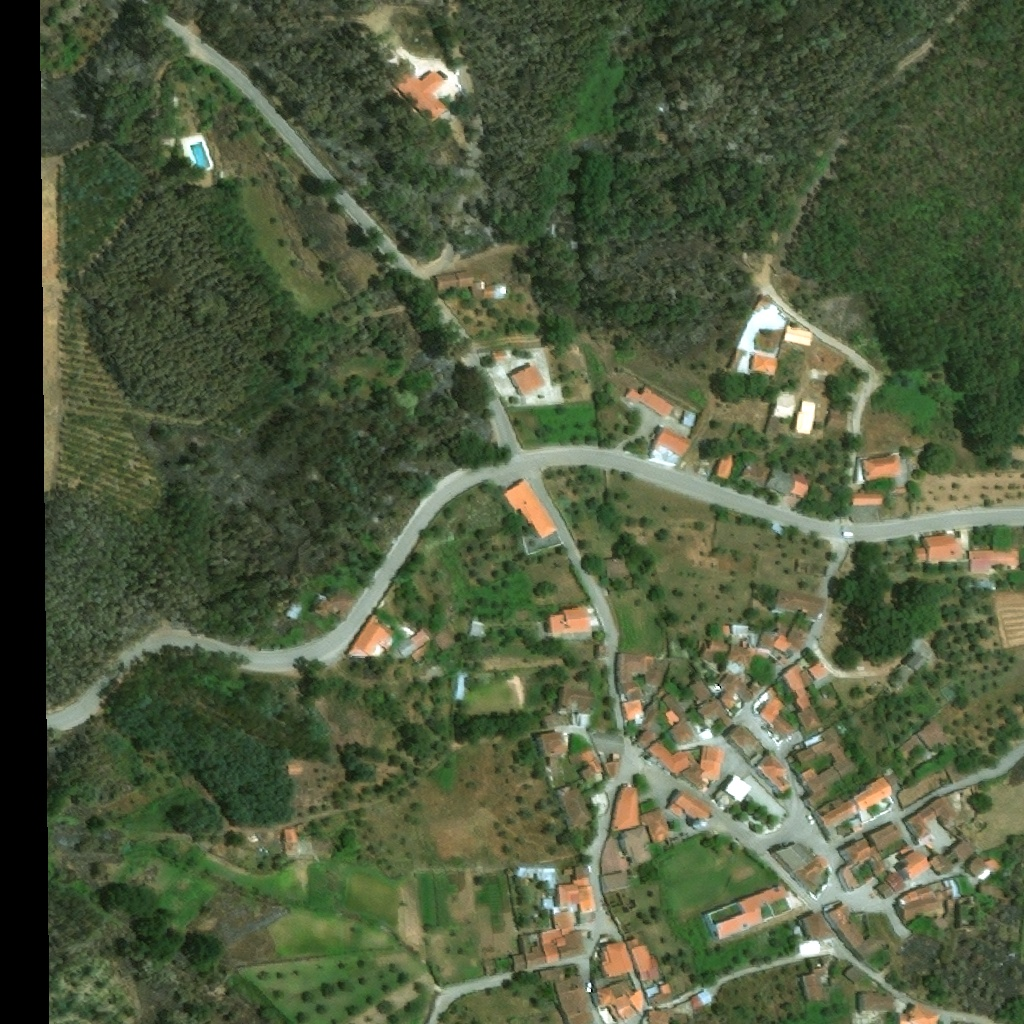0 no-damage: (794, 725, 861, 809), (705, 884, 794, 943), (510, 911, 587, 972), (727, 625, 811, 678), (820, 776, 893, 830), (648, 740, 725, 791), (386, 63, 449, 122), (824, 903, 886, 962), (838, 822, 904, 876), (502, 479, 559, 540), (741, 458, 815, 500), (539, 968, 595, 1023), (772, 842, 826, 896), (783, 664, 825, 733), (897, 720, 954, 766), (616, 653, 666, 701), (556, 867, 597, 924), (348, 614, 396, 659), (599, 978, 644, 1023), (760, 682, 795, 739), (661, 693, 697, 746), (649, 428, 694, 467), (912, 534, 965, 565), (666, 790, 712, 824), (315, 584, 357, 621), (897, 885, 940, 921), (931, 842, 976, 876), (625, 388, 674, 418), (777, 589, 827, 618), (626, 939, 661, 980), (969, 547, 1023, 573), (757, 754, 792, 794), (560, 786, 593, 828), (726, 724, 764, 760), (392, 629, 432, 661), (902, 806, 937, 842), (511, 364, 547, 398), (600, 941, 633, 978), (611, 787, 639, 830), (766, 395, 796, 435), (620, 826, 651, 864), (549, 606, 591, 634), (558, 684, 598, 713), (599, 837, 628, 877), (861, 453, 902, 481), (697, 697, 733, 727), (966, 856, 1003, 884), (515, 868, 557, 891), (801, 913, 833, 943), (640, 811, 670, 843), (875, 871, 906, 901), (800, 967, 826, 1002), (716, 447, 741, 483), (900, 852, 931, 881), (898, 1003, 941, 1023), (719, 674, 744, 708), (537, 731, 569, 756), (709, 626, 759, 642), (928, 797, 957, 824), (699, 640, 730, 665), (645, 982, 674, 1008), (593, 732, 625, 755), (861, 992, 894, 1014), (433, 625, 457, 655), (688, 678, 714, 705), (471, 280, 507, 299), (837, 867, 862, 894), (605, 558, 635, 580), (621, 700, 646, 725), (643, 701, 663, 731), (687, 990, 714, 1012), (601, 872, 629, 893), (843, 964, 868, 986), (752, 355, 780, 374), (905, 651, 928, 674), (467, 618, 487, 642), (434, 273, 459, 292), (454, 670, 469, 701), (828, 410, 848, 433), (808, 661, 830, 681), (852, 493, 884, 506), (579, 764, 598, 783), (456, 270, 476, 288), (538, 899, 560, 915), (638, 730, 656, 748), (648, 1009, 670, 1023), (680, 411, 697, 429), (801, 410, 815, 430), (605, 762, 620, 779), (283, 828, 296, 842), (288, 762, 303, 774), (492, 350, 508, 361)
4 un-classified: (162, 137, 176, 148)
